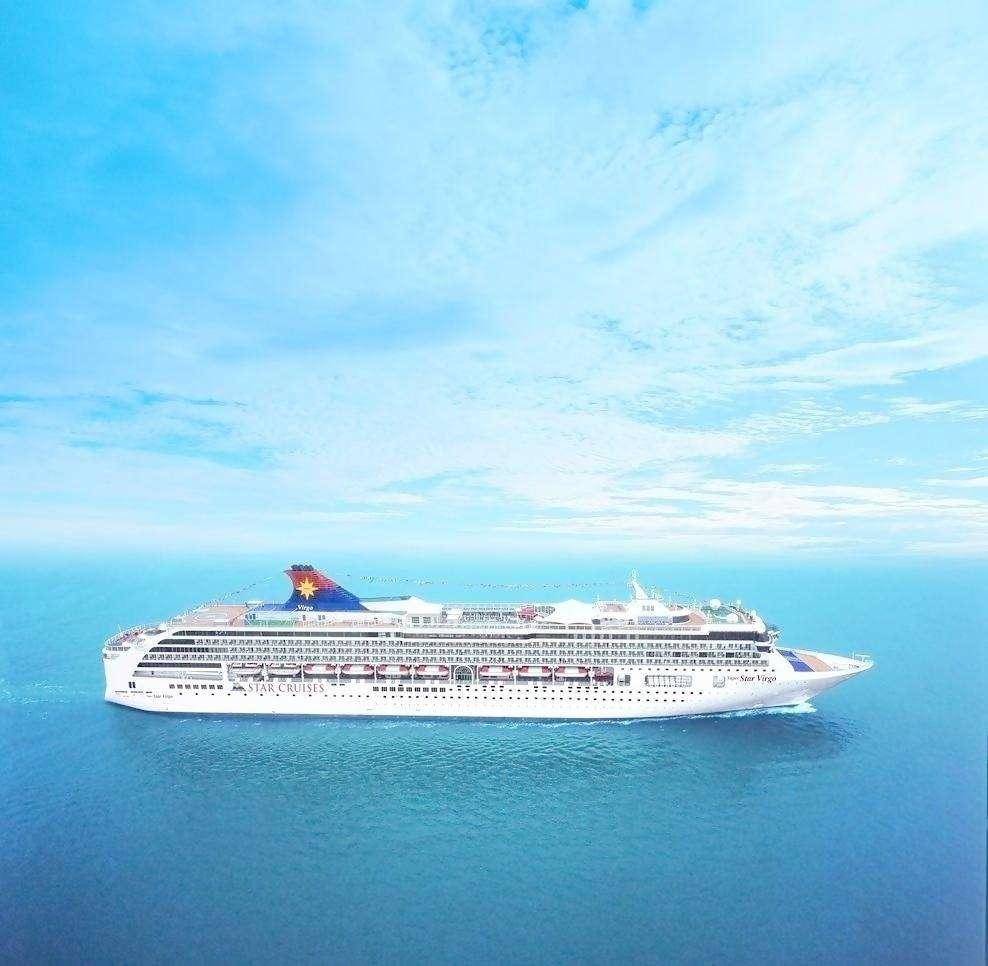youlun: (99, 560, 877, 723)
